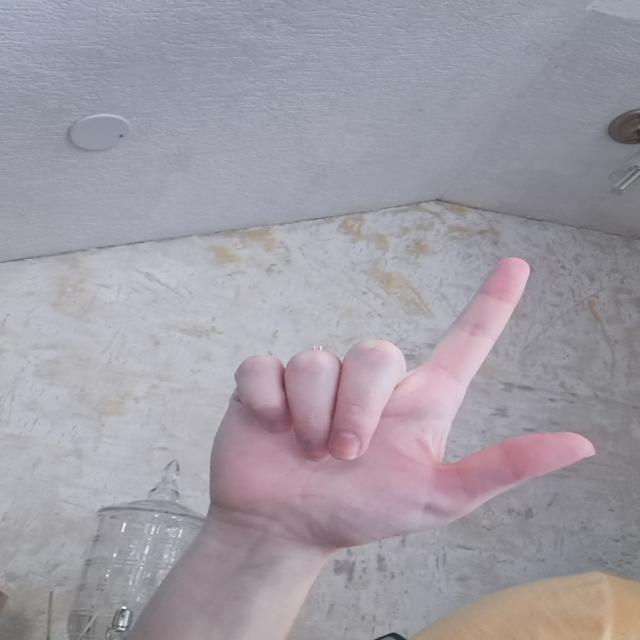L: (212, 253, 609, 547)
